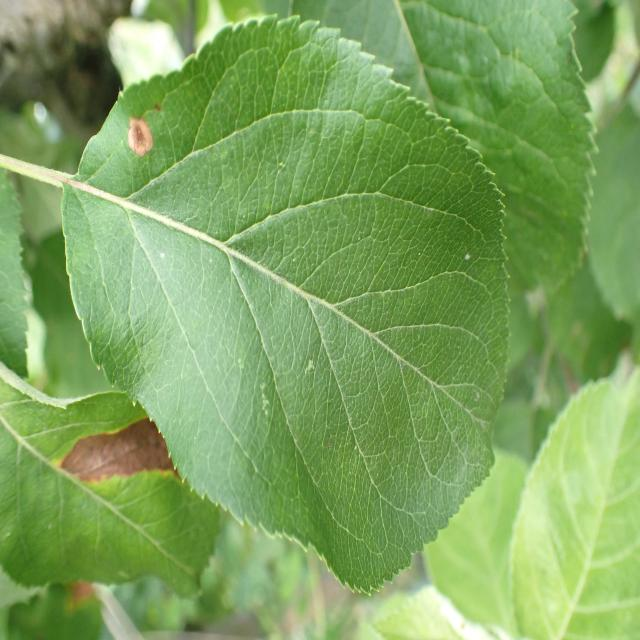Black Rot: (115, 108, 161, 165)
